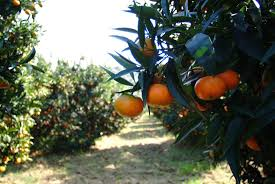orange: (112, 92, 146, 119), (191, 77, 227, 102), (144, 81, 173, 107)
